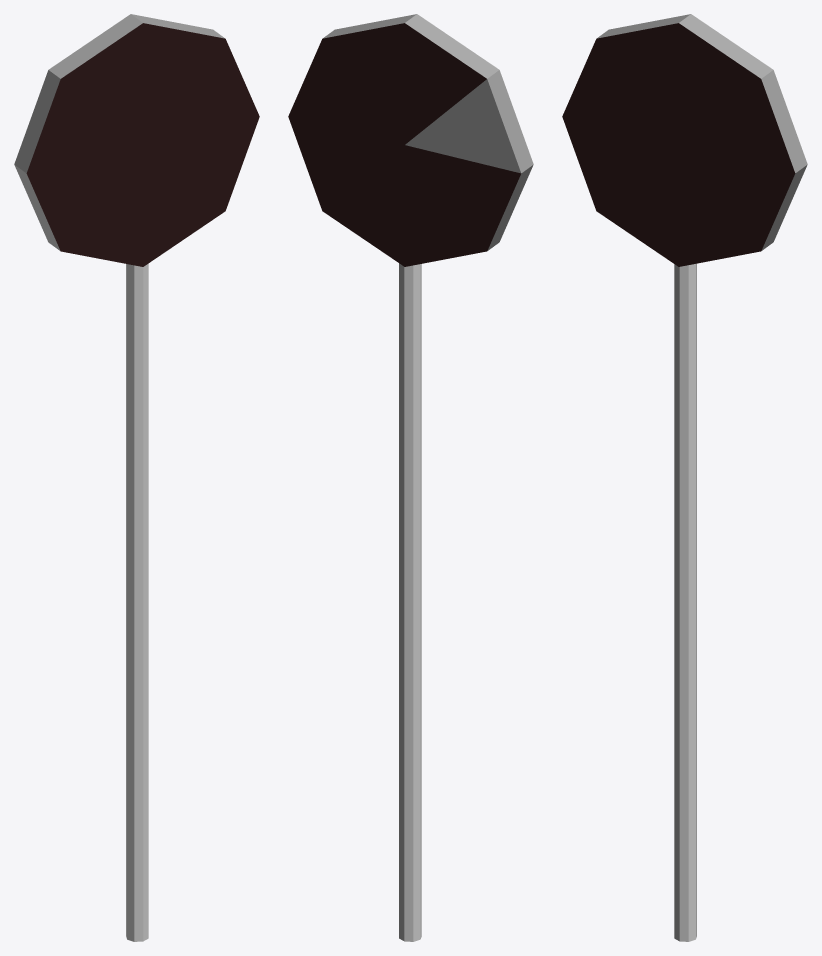
Rendered from Panneau3.fbx.
3 renders of one model, left to right at view 1: azimuth 30°, elevation 25°; view 2: azimuth 150°, elevation 25°; view 3: azimuth 330°, elevation 25°, orthographic.
Visible parts, largest first — view 1: pCylinder4, pCylinder7; view 2: pCylinder4, pCylinder7; view 3: pCylinder4, pCylinder7.
Part boxes in pixels (x1,y1,x2,y2): pCylinder4: (14,14,259,266); pCylinder7: (126,263,148,941); pCylinder4: (288,14,533,266); pCylinder7: (399,263,421,941); pCylinder4: (562,14,807,266); pCylinder7: (674,263,696,941).
Bounding box in the file's own units: 4.39 × 16.54 × 0.4047.
